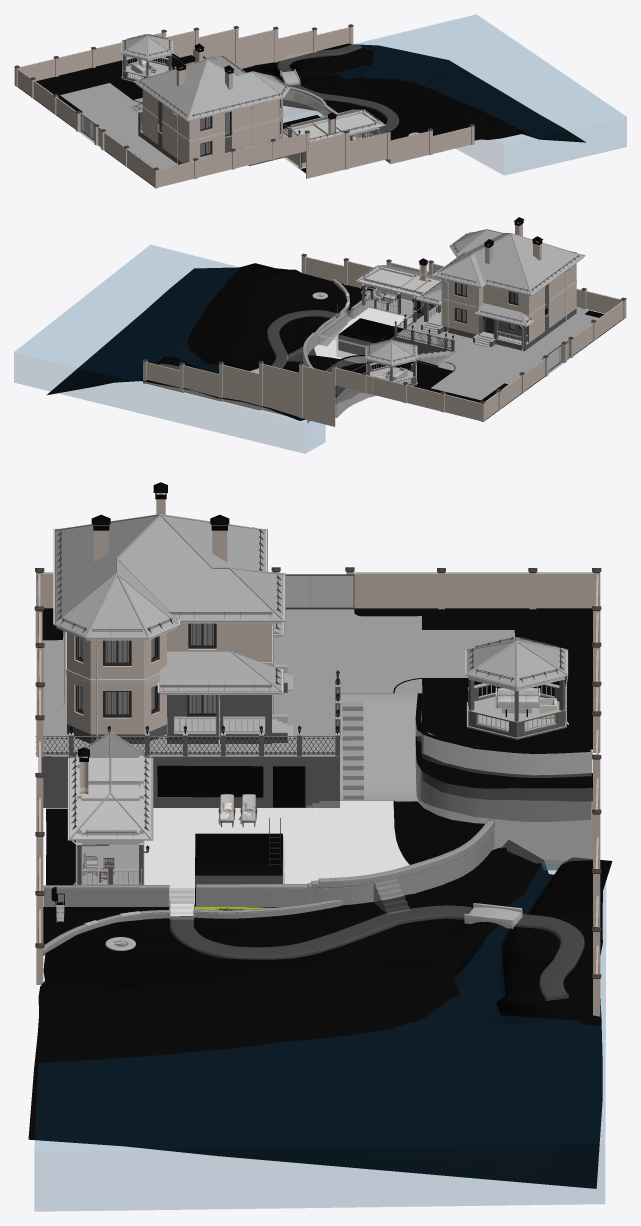
File: slide1.glb
3 renders of one model, top to bottom at view 1: azimuth 30°, elevation 25°; view 2: azimuth 150°, elevation 25°; view 3: azimuth 270°, elevation 25°, orthographic. The views are drawn at different scales.
Parts seen in each view (by area): view 1: water, base level, Obj_Line199, Shape051, high-level, grass-main, solid_fence008, path, solid_fence020, solid_fence009, Rectangle485, solid_fence010 (+30 smaller); view 2: water, base level, high-level, Shape051, Obj_Line199, solid_fence018, solid_fence019, solid_fence020, grass-main, pool walls, middle level, pull (+32 smaller); view 3: base level, water, high-level, Shape051, grass-main, Obj_Line199, middle-highHead, middle level, Line002, highHead, path, pandus (+29 smaller).
Boxes of the visible parts, x1,y1,x2,y2 form: water: (283, 15, 626, 175); base level: (242, 43, 585, 142); Obj_Line199: (142, 89, 282, 163); Shape051: (136, 56, 288, 119); high-level: (60, 83, 288, 169); grass-main: (36, 56, 180, 111); solid_fence008: (306, 130, 349, 178); path: (277, 44, 398, 134); solid_fence020: (238, 26, 278, 68); solid_fence009: (349, 129, 390, 168); Rectangle485: (283, 110, 383, 141); solid_fence010: (390, 128, 433, 164); water: (14, 245, 325, 453); base level: (46, 263, 346, 420); high-level: (396, 304, 598, 400); Shape051: (435, 230, 583, 293); Obj_Line199: (441, 257, 576, 342); solid_fence018: (299, 362, 335, 426); solid_fence019: (258, 360, 298, 416); solid_fence020: (218, 361, 259, 410); grass-main: (308, 311, 603, 402); pool walls: (338, 318, 402, 354); middle level: (317, 300, 412, 346); pull: (337, 320, 400, 357); base level: (28, 840, 612, 1188); water: (34, 864, 605, 1211); high-level: (42, 609, 514, 756); Shape051: (55, 516, 283, 636); grass-main: (44, 608, 592, 910); Obj_Line199: (67, 623, 271, 734); middle-highHead: (415, 746, 592, 870); middle level: (46, 803, 409, 903); Line002: (43, 829, 493, 906); highHead: (415, 694, 592, 821); path: (170, 905, 584, 1000); pandus: (340, 693, 420, 809).
Size of the model in its own units: 57.28 by 19.66 by 30.7.
